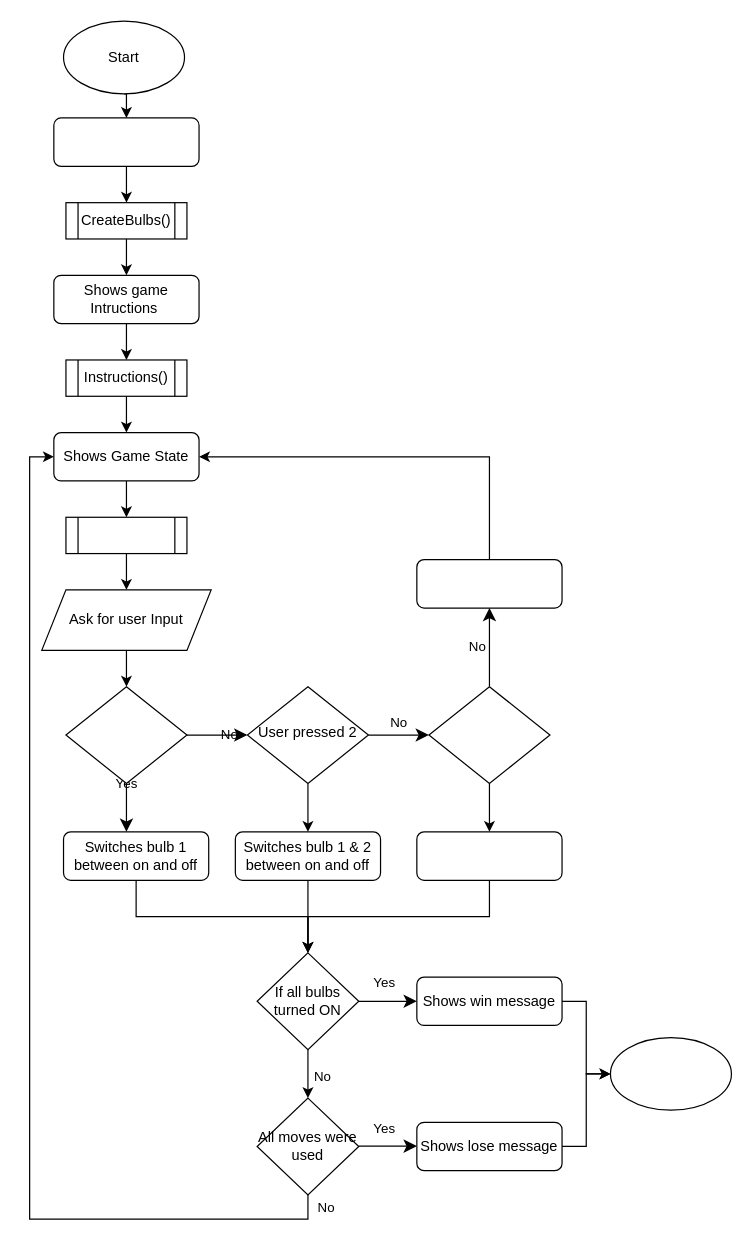
The diagram is 753 pixels wide and 1250 high, and some of its shapes have lost their labels. The shapes that lost their labels are listed below. From the top down, each one's box as (x1, y1, x2, y2) in pixels, then its label:
(53, 117, 199, 166): Creates bulbs and buttons
(65, 516, 187, 554): GameCycle
(416, 558, 562, 608): Shows Error Message
(65, 685, 187, 783): User pressed 1
(428, 685, 550, 783): User pressed 3
(416, 831, 562, 880): Switches bulb 2 & 3 between on and off
(609, 1036, 731, 1110): End
